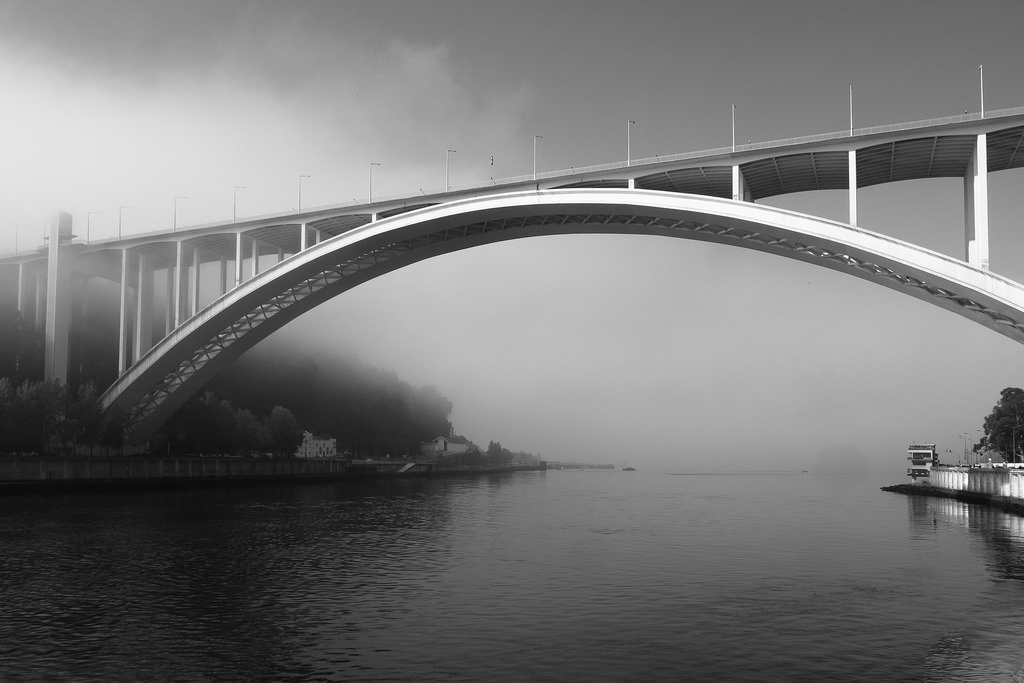arrabida: (0, 105, 1023, 456)
